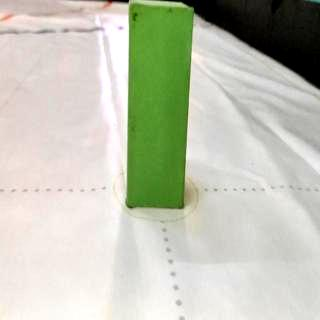greenbox: (127, 0, 196, 209)
